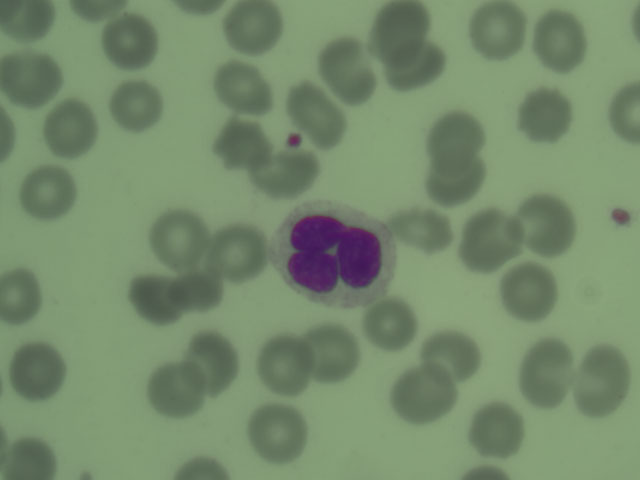Platelets: (284, 129, 309, 153), (608, 205, 632, 228)
RBC: (582, 345, 625, 415), (317, 41, 372, 93), (523, 340, 570, 400), (1, 434, 59, 480), (1, 53, 54, 103), (255, 159, 324, 197), (1, 268, 45, 327), (505, 266, 556, 316), (461, 212, 512, 262), (471, 404, 522, 454), (426, 327, 477, 377), (392, 372, 443, 422), (396, 204, 447, 254), (428, 156, 479, 206), (429, 113, 480, 163), (519, 90, 570, 140), (534, 15, 585, 65), (472, 4, 523, 54), (391, 39, 442, 89), (375, 1, 426, 51), (291, 89, 342, 139), (215, 116, 266, 166), (214, 59, 265, 109), (225, 1, 276, 51), (365, 300, 416, 350), (252, 410, 303, 460), (307, 329, 358, 379), (257, 342, 308, 392), (187, 338, 238, 388), (148, 365, 199, 415), (213, 226, 264, 276), (151, 213, 202, 263), (11, 347, 62, 397), (22, 167, 73, 217), (47, 103, 98, 153), (111, 80, 162, 130), (106, 15, 157, 65), (522, 198, 573, 248), (1, 1, 55, 41), (171, 272, 224, 312), (129, 280, 176, 324), (611, 85, 640, 148), (172, 454, 231, 480)
WBC: (278, 197, 391, 307)
